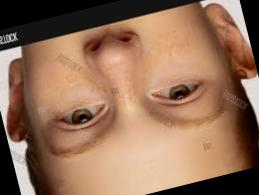opened: (38, 62, 219, 163)
